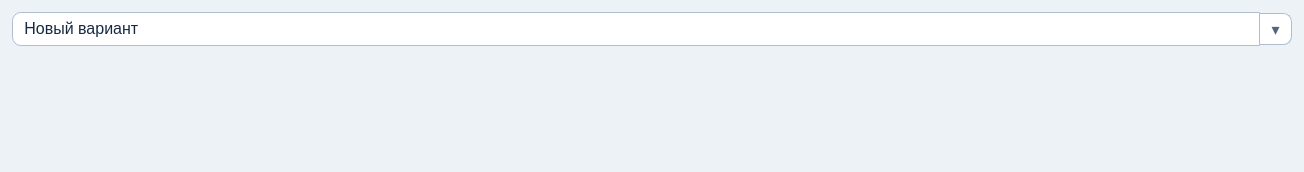
Test: keeps working-form option controls available without auto-persisting drafts
Click the button named "Показать сохранённые варианты: Врач".
click(1276, 29)  # box [1260, 13, 1292, 45]
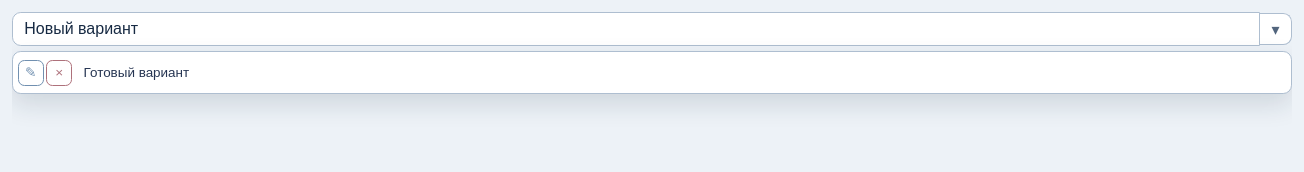
Check: the button named "Изменить значение" is shown, box [18, 60, 44, 86]
Check: the button named "Удалить значение" is shown, box [46, 60, 72, 86]
